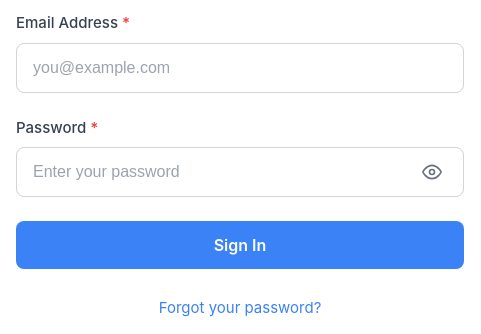
it: LoginForm › Password Visibility Toggle › should toggle password visibility when toggle button clicked
The width and height of the screenshot is (481, 334).
Click to show password
Click the button named "show password". click: point(432, 172)
box: [412,152,452,192]
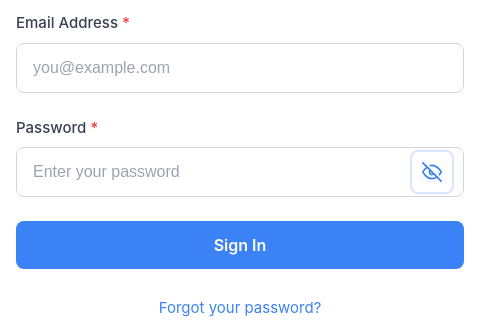
Result: the button named "hide password" is shown
Click again to hide password
Click the button named "hide password". click: point(432, 172)
box: [412,152,452,192]
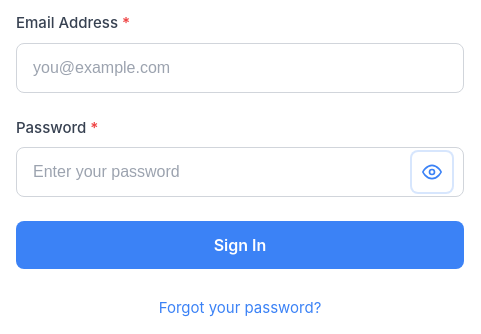
Result: the button named "show password" is shown at [412,152,452,192]
